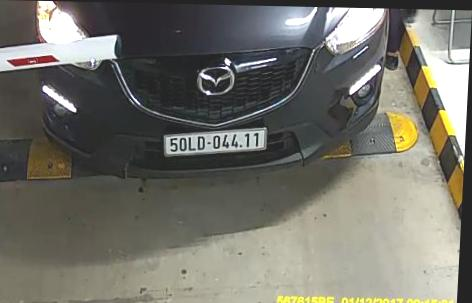License_Plate: (157, 129, 271, 162)
